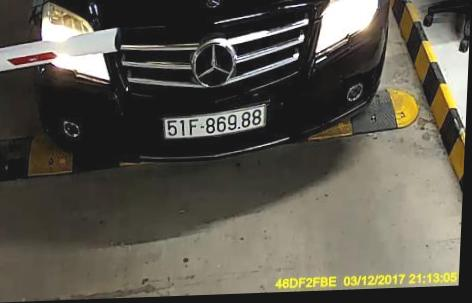License_Plate: (161, 105, 269, 141)
